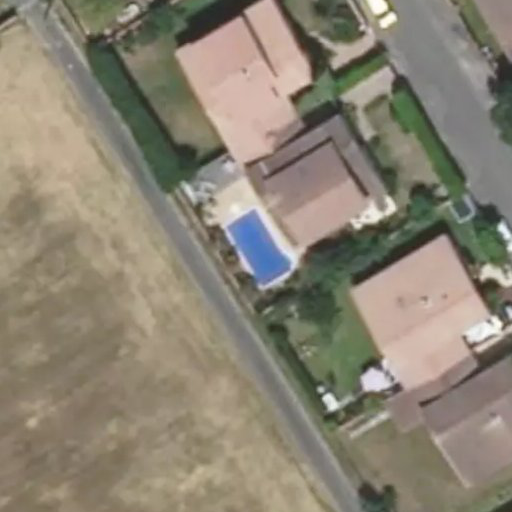pool: (223, 220, 287, 263)
